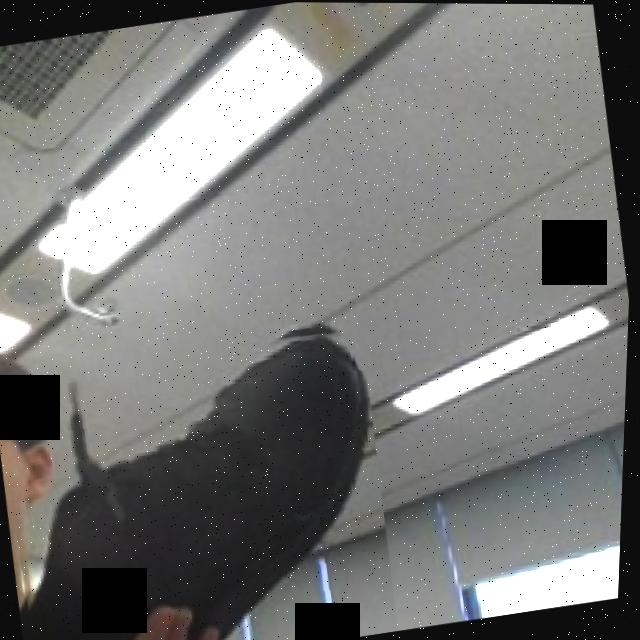shoe: (0, 313, 412, 640)
